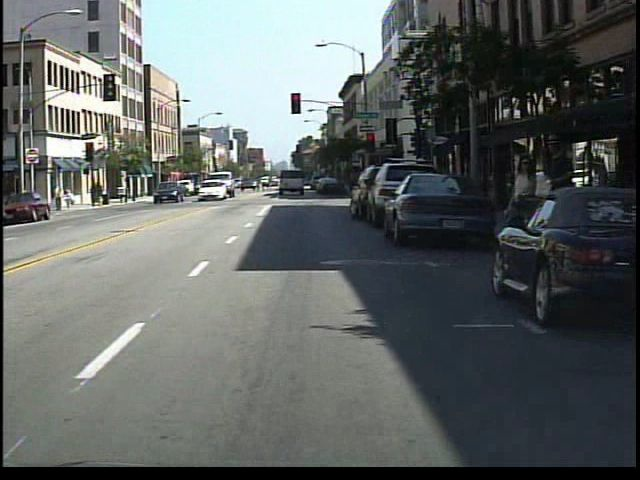person: (544, 129, 582, 273), (509, 150, 541, 270), (52, 182, 66, 214), (64, 184, 79, 210)
